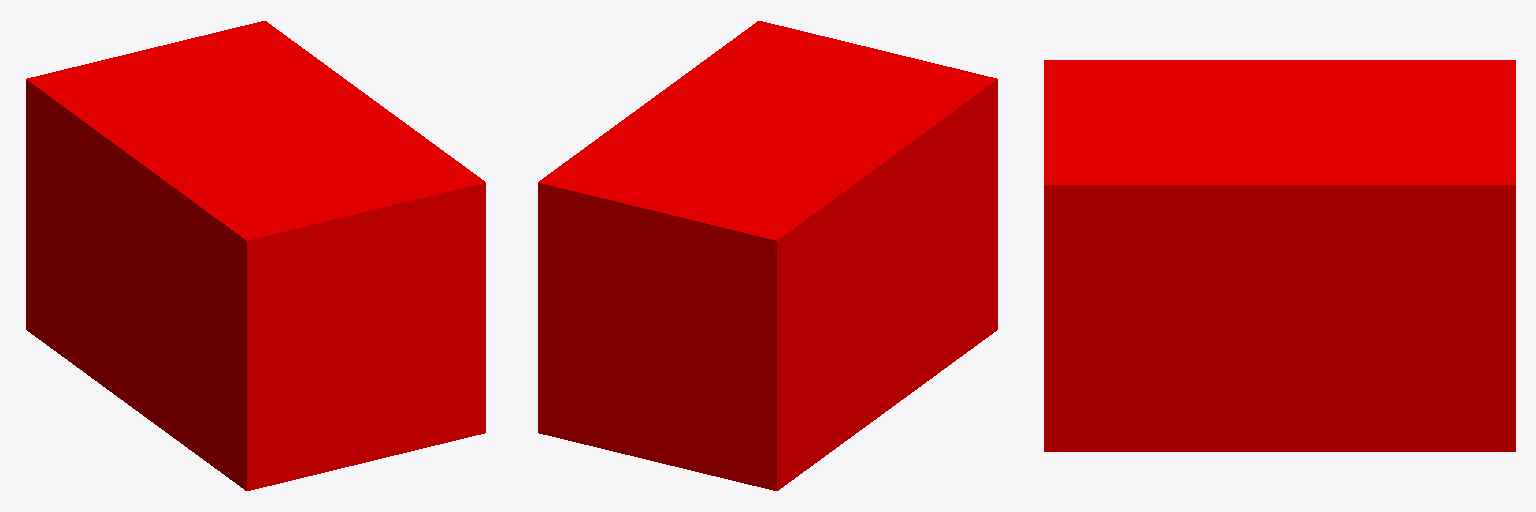
The robot description file, URDF, robot "small_box":
<?xml version="1.0" ?>
<robot name="small_box">

  <link name="base">
    <inertial>
      <mass value="0.05"/>
      <inertia ixx="0.00001" iyy="0.00001" izz="0.00001"/>
    </inertial>

    <visual>
      <geometry>
        <box size="0.025 0.04 0.025"/>
      </geometry>
      <material name="red">
        <color rgba="1 0 0 1"/>
      </material>
    </visual>

    <collision>
      <geometry>
        <box size="0.025 0.025 0.025"/>
      </geometry>
    </collision>
    
  </link>
</robot>

--- Render facts (derived) ---
3 views of the same robot in one strip: view 1: azimuth 30°, elevation 25°; view 2: azimuth 150°, elevation 25°; view 3: azimuth 270°, elevation 25° (orthographic).
Robot: small_box — 1 links, 0 joints (none); root link base; default pose: all joints at 0.
Links seen in each view (by area): view 1: base; view 2: base; view 3: base.
Link boxes in pixels (x1,y1,x2,y2): base: (26,21,485,490); base: (538,21,997,490); base: (1044,60,1515,451).
Bounding box of the posed robot: 0.025 × 0.04 × 0.025 m (x, y, z).
Geometry: primitives only (box / cylinder / sphere), no mesh files.